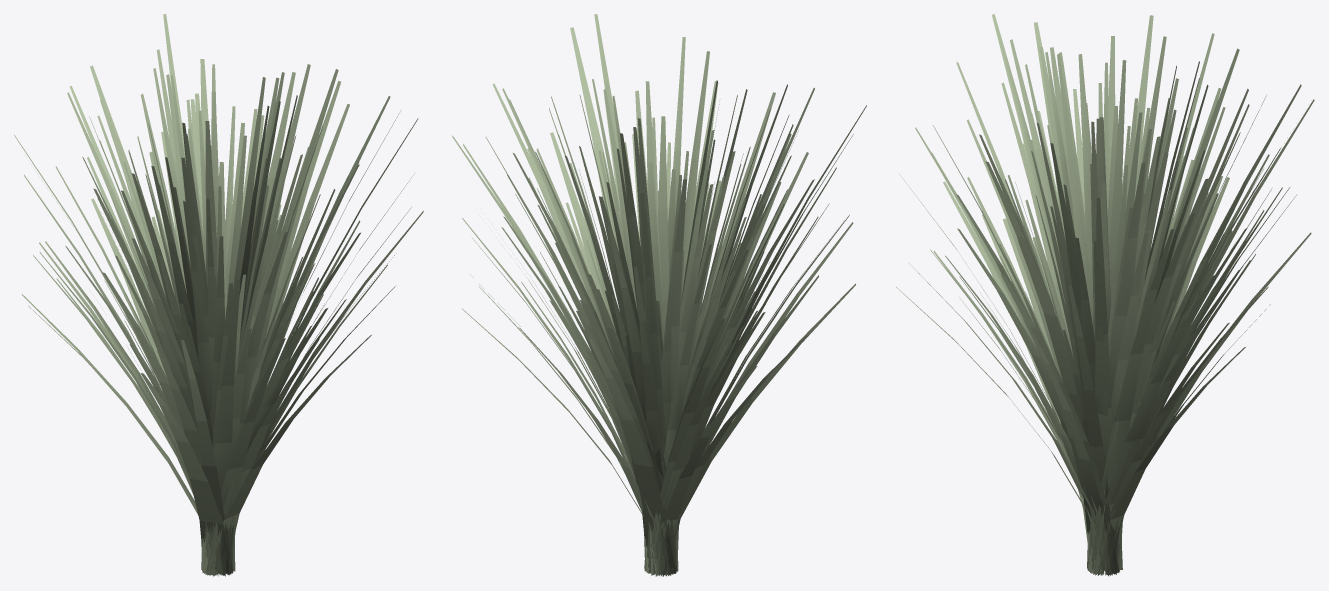
Rendered from layer_grass.glb.
3 views of the same model, side by side, from view 1: azimuth 30°, elevation 25°; view 2: azimuth 150°, elevation 25°; view 3: azimuth 270°, elevation 25° (orthographic). The views are drawn at different scales.
Visible parts, largest first — view 1: v2_foliage, v1_foliage, v0_foliage; view 2: v0_foliage, v1_foliage, v2_foliage; view 3: v1_foliage, v0_foliage, v2_foliage.
Part boxes in pixels (x1,y1,x2,y2): v2_foliage: (14,14,360,576); v1_foliage: (56,49,423,576); v0_foliage: (24,64,418,576); v0_foliage: (462,27,853,575); v1_foliage: (452,14,818,576); v2_foliage: (462,80,866,576); v1_foliage: (896,48,1314,576); v0_foliage: (943,15,1311,575); v2_foliage: (930,14,1296,575).
Size of the model in its own units: 0.7539 by 1 by 0.7632.
